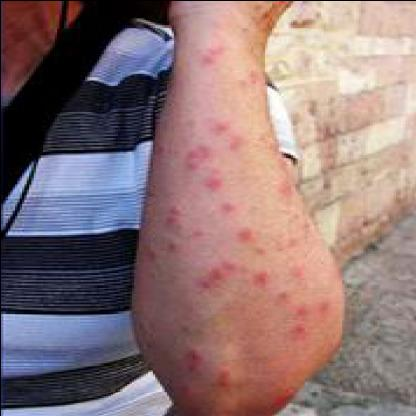Bed Bug: (156, 113, 250, 168), (142, 197, 206, 256), (190, 258, 274, 290), (278, 298, 336, 336), (272, 172, 302, 202), (198, 32, 226, 62), (269, 382, 304, 404), (208, 362, 234, 388), (243, 62, 264, 92), (196, 174, 234, 188), (234, 224, 262, 242), (285, 260, 309, 281), (185, 345, 203, 371), (178, 378, 202, 397), (217, 198, 241, 214)
